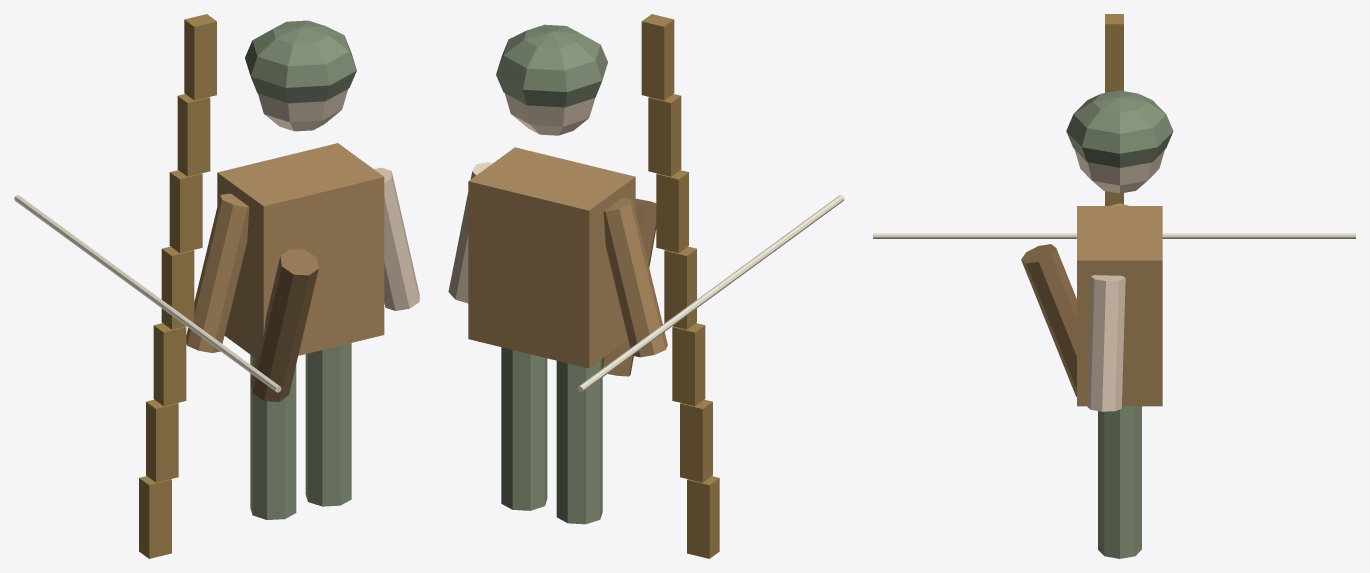
Rendered from archer.glb.
The picture shows the model from 3 angles, left to right: view 1: azimuth 30°, elevation 25°; view 2: azimuth 150°, elevation 25°; view 3: azimuth 270°, elevation 25°; orthographic projection. The views are drawn at different scales.
Visible parts, largest first — view 1: Archer; view 2: Archer; view 3: Archer.
Boxes of the visible parts, x1,y1,x2,y2 form: Archer: (14, 14, 419, 558); Archer: (448, 14, 844, 558); Archer: (873, 14, 1355, 558).
Bounding box in the file's own units: 1.07 × 1.98 × 1.8.
